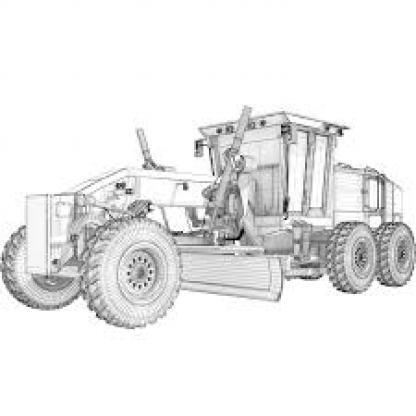bull_dozer/loader/grader: (2, 87, 414, 338)
